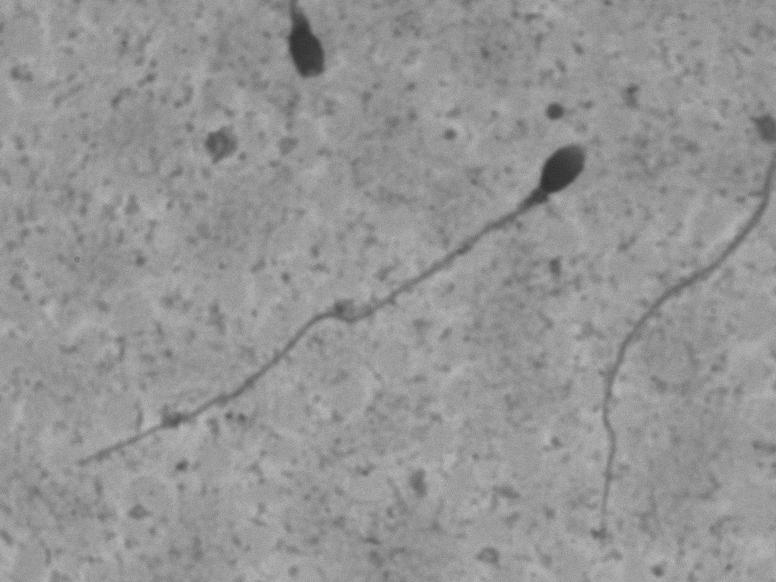Normal: (60, 129, 612, 487)
